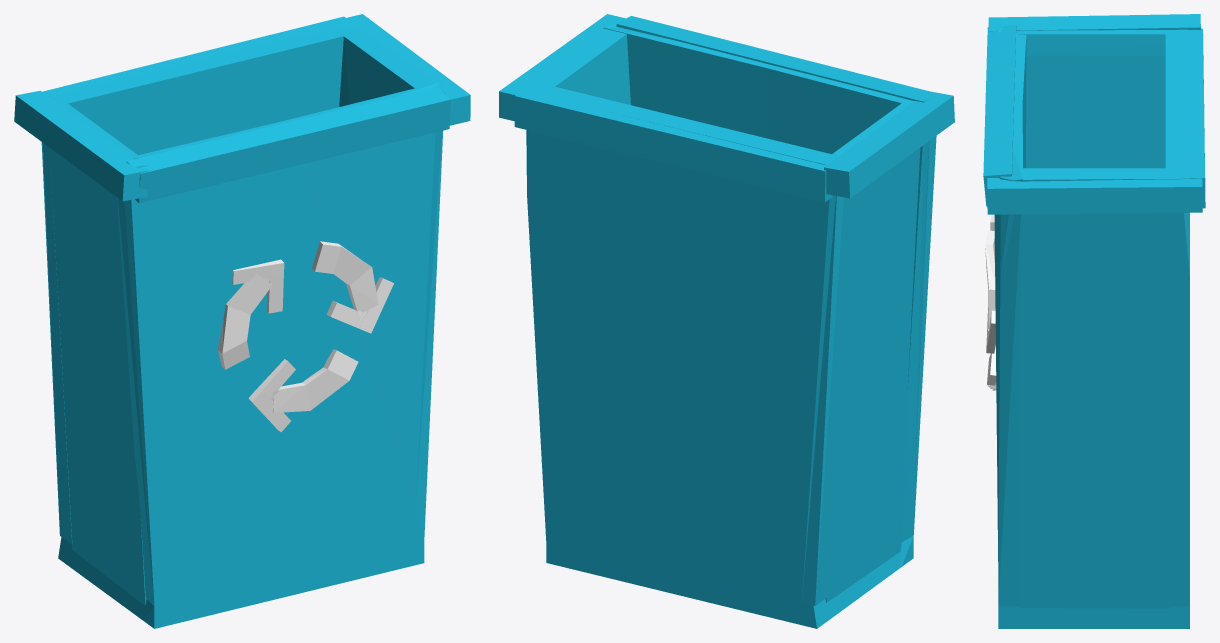
File: Bin (1).fbx
The picture shows the model from 3 angles, left to right: view 1: azimuth 30°, elevation 25°; view 2: azimuth 150°, elevation 25°; view 3: azimuth 270°, elevation 25°; orthographic projection.
Parts seen in each view (by area): view 1: bin; view 2: bin; view 3: bin.
Boxes of the visible parts, bbox=[...] form: bin: bbox=[14, 14, 470, 628]; bin: bbox=[499, 14, 954, 628]; bin: bbox=[983, 14, 1205, 628].
Bounding box in the file's own units: 98.35 × 126 × 54.45.
